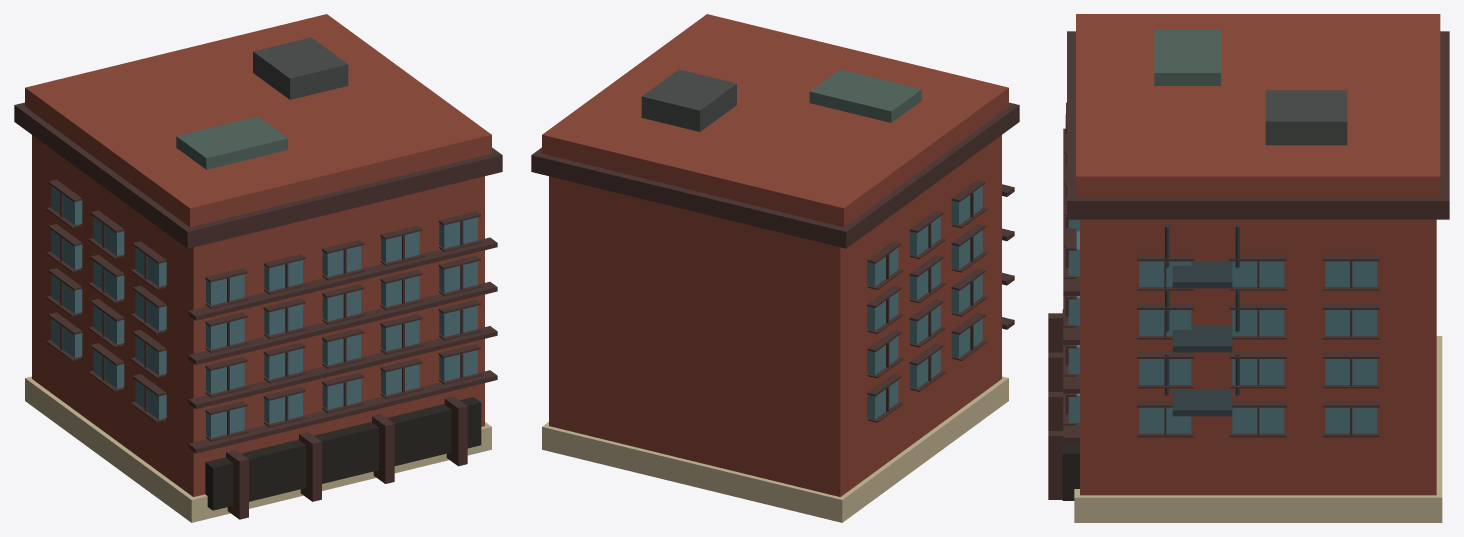
Rendered from masonry-modules.glb.
The picture shows the model from 3 angles, left to right: view 1: azimuth 30°, elevation 25°; view 2: azimuth 150°, elevation 25°; view 3: azimuth 270°, elevation 25°; orthographic projection. The views are drawn at different scales.
Parts seen in each view (by area): view 1: masonry-building-warm-red-brick-merged, masonry-building-dark-aged-brick-merged, masonry-building-smoked-curtain-glass-merged, masonry-building-interior-shadow-card-merged, masonry-building-warm-limestone-merged, masonry-building-roof-membrane-merged, masonry-building-painted-metal-merged; view 2: masonry-building-warm-red-brick-merged, masonry-building-dark-aged-brick-merged, masonry-building-warm-limestone-merged, masonry-building-smoked-curtain-glass-merged, masonry-building-roof-membrane-merged, masonry-building-painted-metal-merged; view 3: masonry-building-warm-red-brick-merged, masonry-building-dark-aged-brick-merged, masonry-building-smoked-curtain-glass-merged, masonry-building-warm-limestone-merged, masonry-building-dark-structural-steel-merged, masonry-building-roof-membrane-merged, masonry-building-painted-metal-merged, masonry-building-interior-shadow-card-merged.
Part boxes in pixels (x1,y1,x2,y2): masonry-building-warm-red-brick-merged: [25, 14, 491, 496]; masonry-building-dark-aged-brick-merged: [14, 102, 502, 519]; masonry-building-smoked-curtain-glass-merged: [51, 186, 477, 438]; masonry-building-interior-shadow-card-merged: [205, 397, 481, 510]; masonry-building-warm-limestone-merged: [25, 376, 491, 522]; masonry-building-roof-membrane-merged: [253, 37, 348, 99]; masonry-building-painted-metal-merged: [176, 116, 287, 169]; masonry-building-warm-red-brick-merged: [542, 14, 1008, 496]; masonry-building-dark-aged-brick-merged: [531, 102, 1019, 422]; masonry-building-warm-limestone-merged: [542, 376, 1008, 522]; masonry-building-smoked-curtain-glass-merged: [867, 186, 982, 419]; masonry-building-roof-membrane-merged: [641, 69, 736, 131]; masonry-building-painted-metal-merged: [809, 69, 921, 122]; masonry-building-warm-red-brick-merged: [1076, 14, 1440, 495]; masonry-building-dark-aged-brick-merged: [1048, 31, 1449, 499]; masonry-building-smoked-curtain-glass-merged: [1068, 219, 1377, 433]; masonry-building-warm-limestone-merged: [1074, 336, 1442, 522]; masonry-building-dark-structural-steel-merged: [1165, 225, 1239, 416]; masonry-building-roof-membrane-merged: [1265, 90, 1347, 145]; masonry-building-painted-metal-merged: [1154, 29, 1220, 85]; masonry-building-interior-shadow-card-merged: [1062, 309, 1079, 500].
Size of the model in its own units: 1.17 by 1.1 by 1.08.
